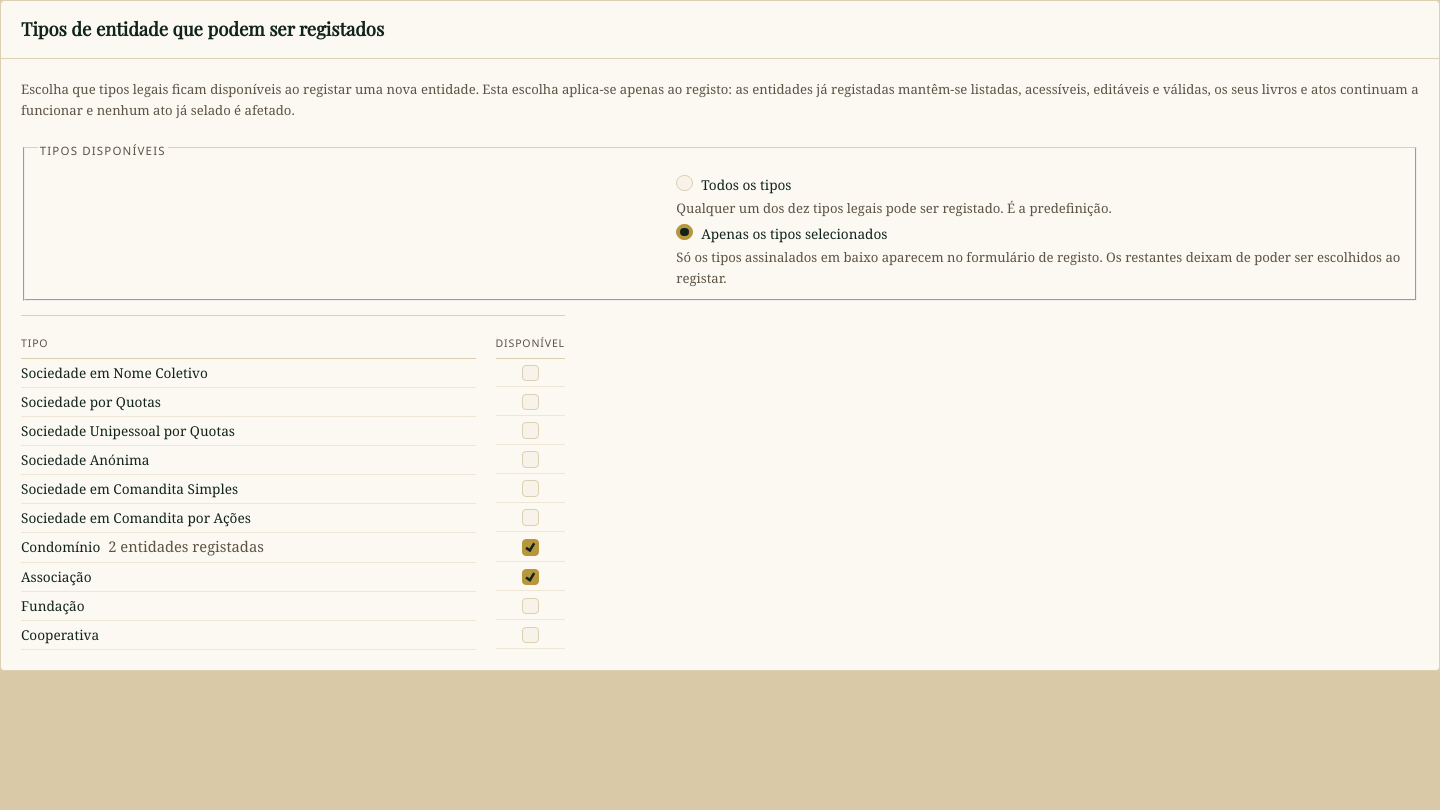
Test: EntityKindsSection — switching off a type that already has records › leaves the type enabled when the acknowledgement is dismissed
Click the checkbox labelled "Condomínio 2 entidades registadas".
click(530, 547)  # box [522,539,539,556]
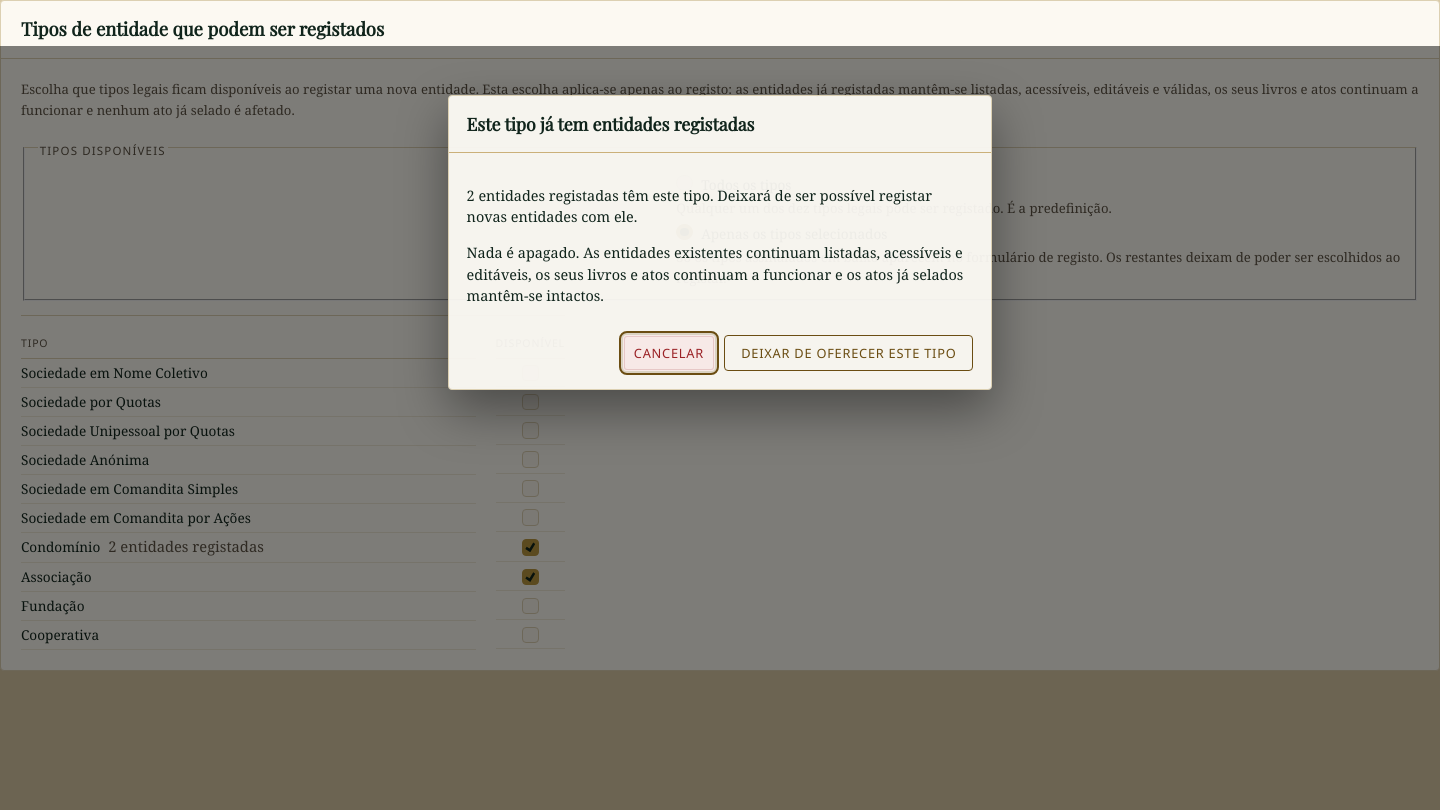
Click the button "Cancelar".
click(669, 353)  # box [623,335,715,371]
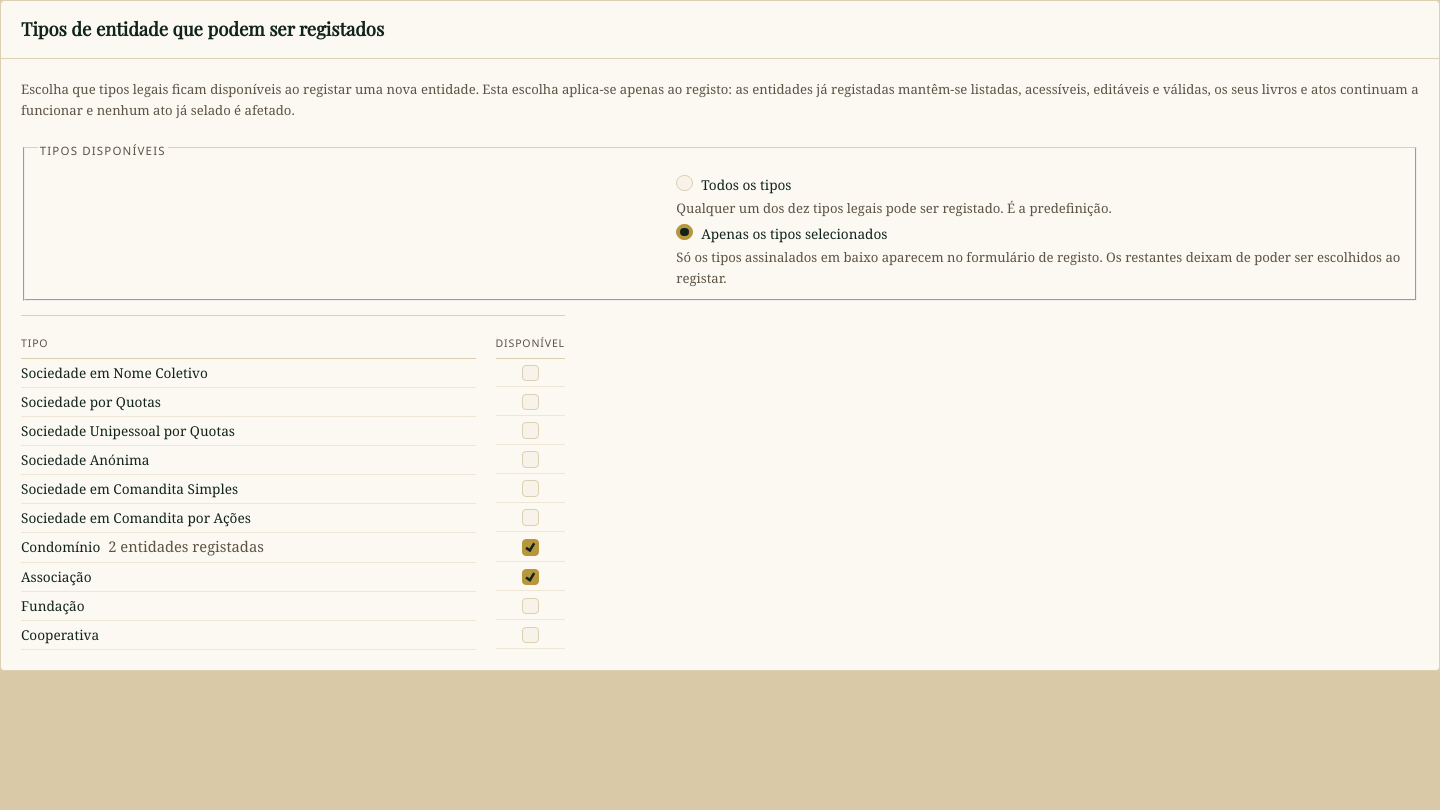
Expected: the checkbox labelled "Condomínio 2 entidades registadas" is checked, [522,539,539,556]
Expected: the dialog is gone
